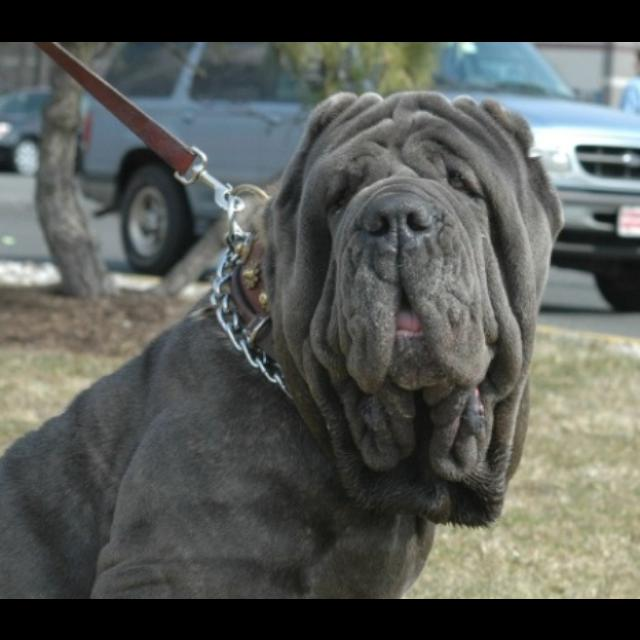mastino_napoletano: (1, 88, 565, 599)
